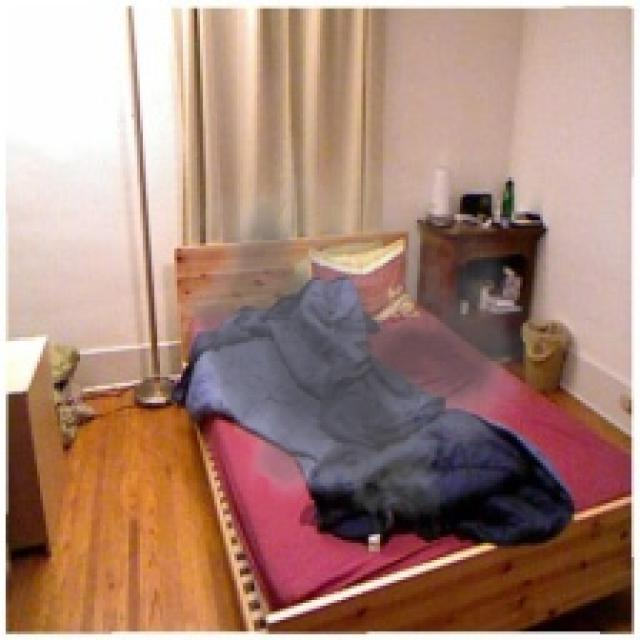Smoke: (162, 128, 538, 538)
